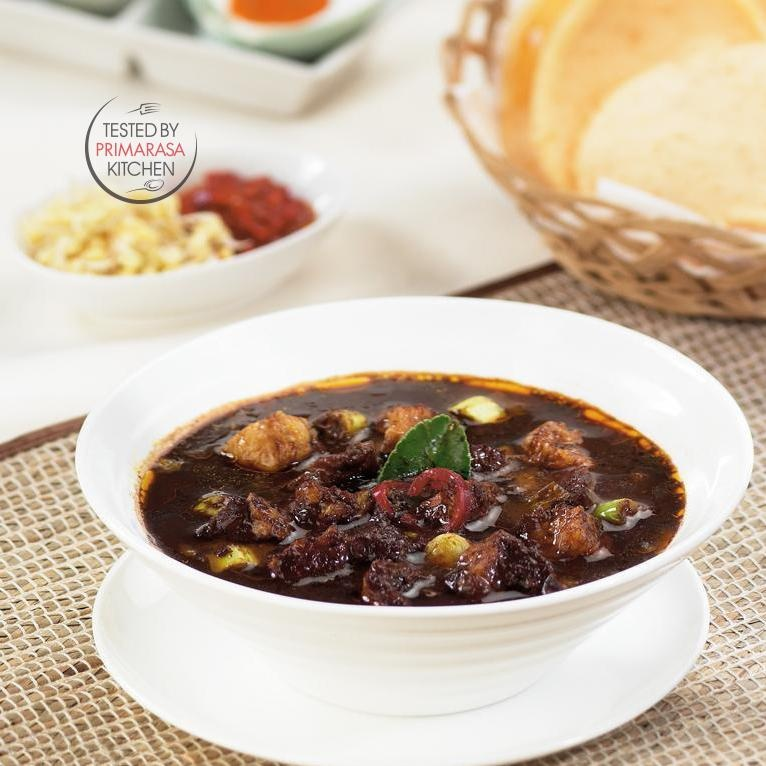rawon: (165, 364, 693, 611)
